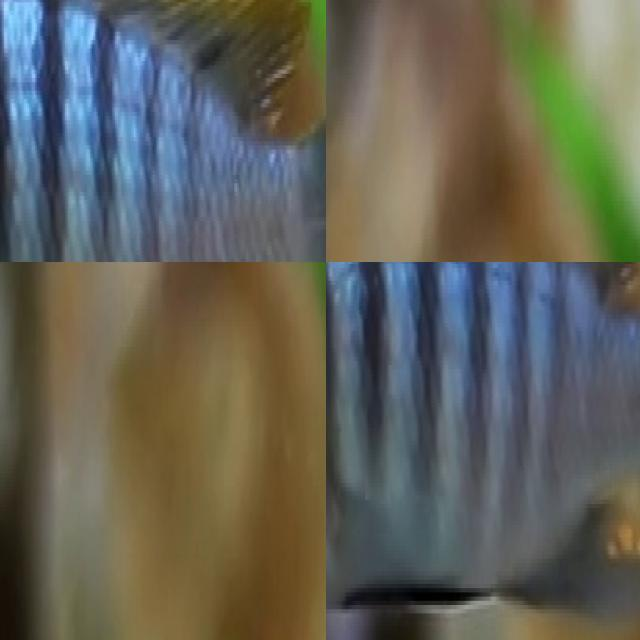fish: (326, 262, 640, 640), (0, 0, 326, 262)
